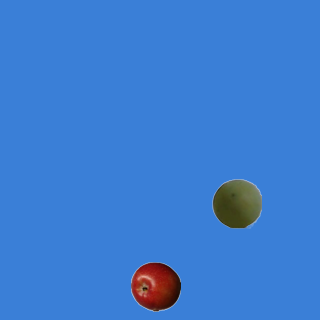Apple Braeburn: (130, 261, 180, 311)
Grape White 4: (211, 178, 261, 228)
